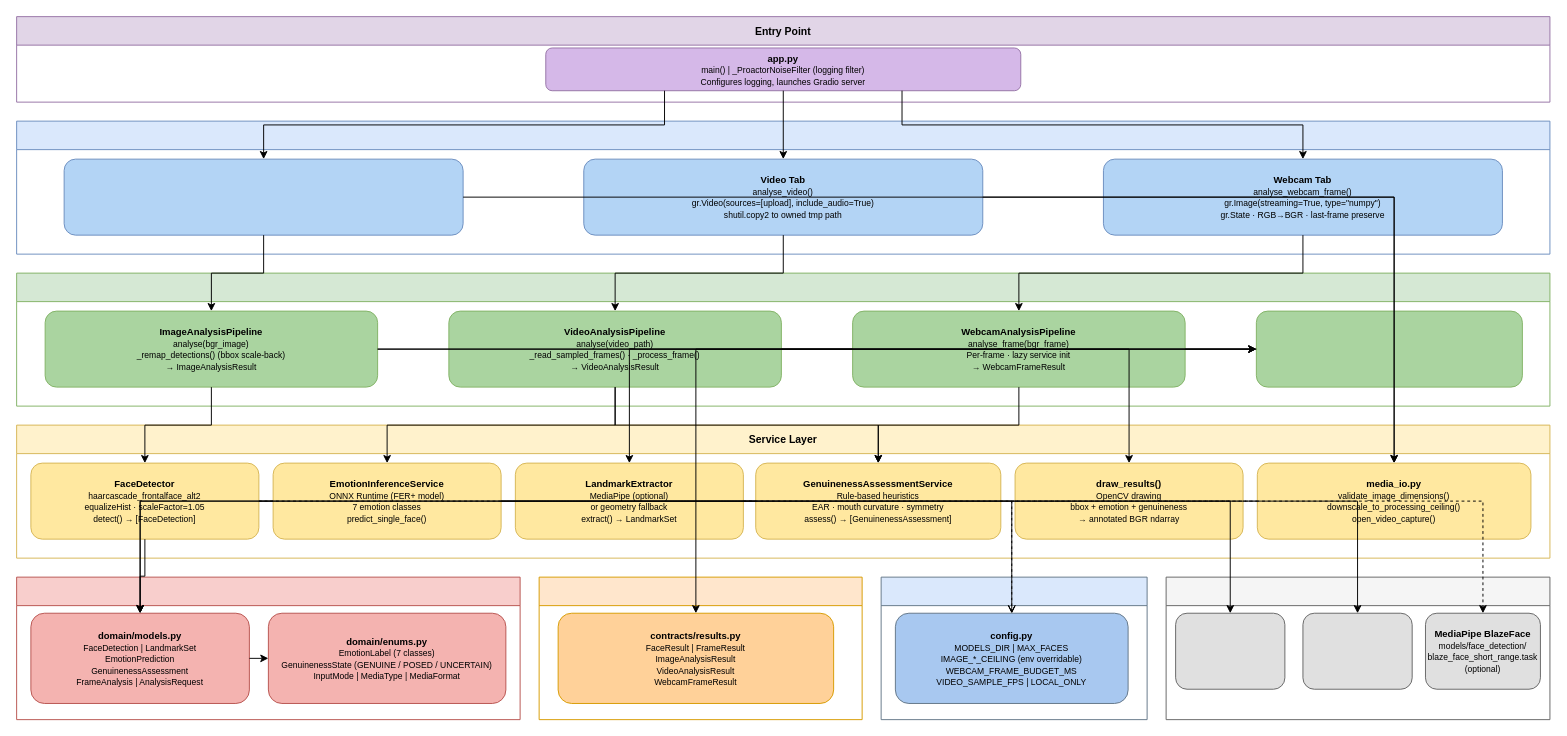
This 1567x736 diagram has some shape labels left out. Each missing label, with the box of its shape:
base_pipeline.py build_face_result() build_frame_result() Shared assembly logic: (1255, 310, 1522, 387)
Configuration: (880, 576, 1147, 720)
Contract Layer (serialisable DTOs): (538, 576, 862, 720)
Domain Layer: (16, 576, 520, 720)
External Models / Resources: (1165, 576, 1550, 720)
FER+ ONNX Model models/emotion/ facial_expression_model.onnx: (1175, 612, 1285, 689)
Haar Cascade XML OpenCV built-in frontalface_alt2.xml: (1302, 612, 1412, 689)
Image Tab analyse_image() gr.Image(type="pil") PIL → BGR · validate · downscale: (63, 158, 463, 235)
Pipeline Layer: (16, 272, 1550, 406)
UI Layer (gradio_app.py — Gradio Blocks): (16, 120, 1550, 254)
